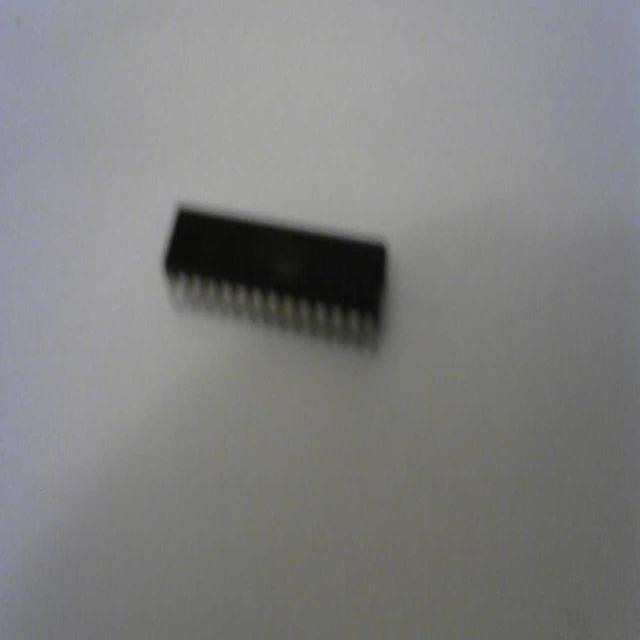atmega: (160, 197, 390, 356)
